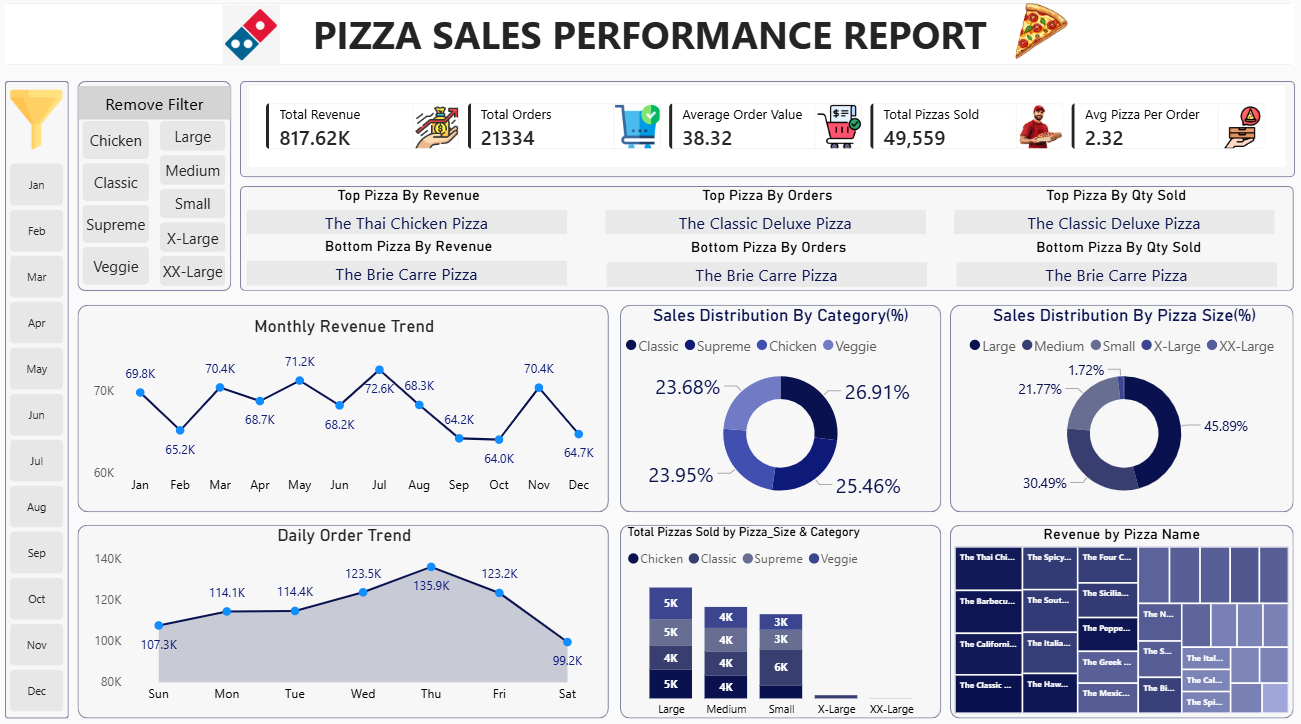

The dashboard page shown, as its layout file describes it:
{"tool":"powerbi","page":{"name":"Dashboard","canvas":[1280,720],"ordinal":0},"visuals":[{"type":"group","id":"g1","title":"Group 1","box":[9.8,12.2,1262,699.5],"z":0},{"type":"shape","box":[9.8,12.2,1260.7,59.9],"z":1000,"group":"g1"},{"type":"cardVisual","fields":{"Data":["PIZZA SALES.Total Revenue","PIZZA SALES.Total Orders","PIZZA SALES.Average Order Value","PIZZA SALES.Total Pizzas Sold","PIZZA SALES.Avg Pizza Per Order"]},"box":[248.2,92.9,1013.7,79.5],"z":1000},{"type":"shape","box":[9.8,88,62.4,623.6],"z":2000,"group":"g1"},{"type":"lineChart","title":"Monthly Revenue Trend","fields":{"Category":["PIZZA SALES.Month Name"],"Y":["PIZZA SALES.Total Revenue"]},"box":[91.7,317.9,500.1,183.4],"z":2000},{"type":"shape","box":[80.7,88,150.4,205.4],"z":3000,"group":"g1"},{"type":"lineChart","title":"Daily Order Trend","fields":{"Y":["PIZZA SALES.Total Revenue"],"Category":["PIZZA SALES.Day Name"]},"box":[91.7,522.1,500.1,183.4],"z":3000},{"type":"shape","box":[239.7,190.7,1030.8,102.7],"z":4000,"group":"g1"},{"type":"donutChart","title":"Sales Distribution By Category(%)","fields":{"Category":["PIZZA SALES.pizza_category"],"Y":["PIZZA SALES.Total Revenue"]},"box":[611.4,306.9,314.3,203],"z":4000},{"type":"shape","box":[239.7,88,1032.1,94.2],"z":5000,"group":"g1"},{"type":"donutChart","title":"Sales Distribution By Pizza Size(%)","fields":{"Y":["PIZZA SALES.Total Revenue"],"Category":["PIZZA SALES.pizza_size"]},"box":[947.7,306.9,314.3,203],"z":5000},{"type":"shape","box":[80.7,306.9,519.7,203],"z":6000,"group":"g1"},{"type":"columnChart","title":"Total Pizzas Sold by Pizza_Size & Category","fields":{"Category":["PIZZA SALES.pizza_size"],"Y":["PIZZA SALES.Total Pizzas Sold"],"Series":["PIZZA SALES.pizza_category"]},"box":[613.9,522.1,311.8,198.1],"z":6000},{"type":"shape","box":[80.7,522.1,519.7,189.5],"z":7000,"group":"g1"},{"type":"treemap","title":"Revenue by Pizza Name","fields":{"Group":["PIZZA SALES.pizza_name"],"Values":["PIZZA SALES.Total Revenue"]},"box":[934.2,522.1,336.3,189.5],"z":7000},{"type":"advancedSlicerVisual","title":"Top Pizza By Revenue","fields":{"Values":["PIZZA SALES.pizza_name"]},"box":[239.7,190.8,330.2,66],"z":8000},{"type":"shape","box":[611.4,306.9,314.3,203],"z":8000,"group":"g1"},{"type":"advancedSlicerVisual","title":"Bottom Pizza By Revenue","fields":{"Values":["PIZZA SALES.pizza_name"]},"box":[239.7,240.9,330.2,66],"z":9000},{"type":"shape","box":[934.3,306.9,336.3,203],"z":9000,"group":"g1"},{"type":"advancedSlicerVisual","title":"Top Pizza By Orders","fields":{"Values":["PIZZA SALES.pizza_name"]},"box":[590.6,190.8,330.2,66],"z":10000},{"type":"shape","box":[611.4,522.1,314.3,189.5],"z":10000,"group":"g1"},{"type":"advancedSlicerVisual","title":"Bottom Pizza By Orders","fields":{"Values":["PIZZA SALES.pizza_name"]},"box":[591.9,242.1,330.2,66],"z":11000},{"type":"shape","box":[934.3,522.1,336.3,189.5],"z":11000,"group":"g1"},{"type":"advancedSlicerVisual","title":"Top Pizza By Qty Sold","fields":{"Values":["PIZZA SALES.pizza_name"]},"box":[931.8,190.8,330.2,66],"z":12000},{"type":"advancedSlicerVisual","title":"Bottom Pizza By Qty Sold","fields":{"Values":["PIZZA SALES.pizza_name"]},"box":[934.2,242.1,330.2,66],"z":13000},{"type":"advancedSlicerVisual","fields":{"Values":["PIZZA SALES.Month Name"]},"box":[9.8,163.9,62.4,547.8],"z":14000},{"type":"advancedSlicerVisual","fields":{"Values":["PIZZA SALES.pizza_category"]},"box":[80.7,122.3,75.8,171.2],"z":15000},{"type":"advancedSlicerVisual","fields":{"Values":["PIZZA SALES.pizza_size"]},"box":[156.5,122.3,74.6,171.2],"z":16000},{"type":"actionButton","box":[80.7,92.9,150.4,33],"z":17000},{"type":"image","box":[0,96.6,80.7,58.7],"z":18000},{"type":"textbox","box":[9.8,12.2,1262,59.9],"z":19000},{"type":"image","box":[871.9,7.3,299.6,64.8],"z":20000},{"type":"image","box":[183.4,13.5,134.5,58.7],"z":20001}]}

Visuals, with their boxes in screenshot pixels (x1, y1, x2, y2), scaled from the page's 1280x720 canvas onto the 1301x724 screenshot:
"Group 1" group: 10,12,1293,716
shape: 10,12,1291,73
cardVisual - PIZZA SALES.Total Revenue x PIZZA SALES.Total Orders: 252,93,1283,173
shape: 10,88,73,716
"Monthly Revenue Trend" lineChart: 93,320,602,504
shape: 82,88,235,295
"Daily Order Trend" lineChart: 93,525,602,709
shape: 244,192,1291,295
"Sales Distribution By Category(%)" donutChart: 621,309,941,513
shape: 244,88,1293,183
"Sales Distribution By Pizza Size(%)" donutChart: 963,309,1283,513
shape: 82,309,610,513
"Total Pizzas Sold by Pizza_Size & Category" columnChart: 624,525,941,723
shape: 82,525,610,716
"Revenue by Pizza Name" treemap: 950,525,1291,716
"Top Pizza By Revenue" advancedSlicerVisual: 244,192,579,258
shape: 621,309,941,513
"Bottom Pizza By Revenue" advancedSlicerVisual: 244,242,579,309
shape: 950,309,1291,513
"Top Pizza By Orders" advancedSlicerVisual: 600,192,936,258
shape: 621,525,941,716
"Bottom Pizza By Orders" advancedSlicerVisual: 602,243,937,310
shape: 950,525,1291,716
"Top Pizza By Qty Sold" advancedSlicerVisual: 947,192,1283,258
"Bottom Pizza By Qty Sold" advancedSlicerVisual: 950,243,1285,310
advancedSlicerVisual - PIZZA SALES.Month Name: 10,165,73,716
advancedSlicerVisual - PIZZA SALES.pizza_category: 82,123,159,295
advancedSlicerVisual - PIZZA SALES.pizza_size: 159,123,235,295
actionButton: 82,93,235,127
image: 0,97,82,156
textbox: 10,12,1293,73
image: 886,7,1191,73
image: 186,14,323,73
